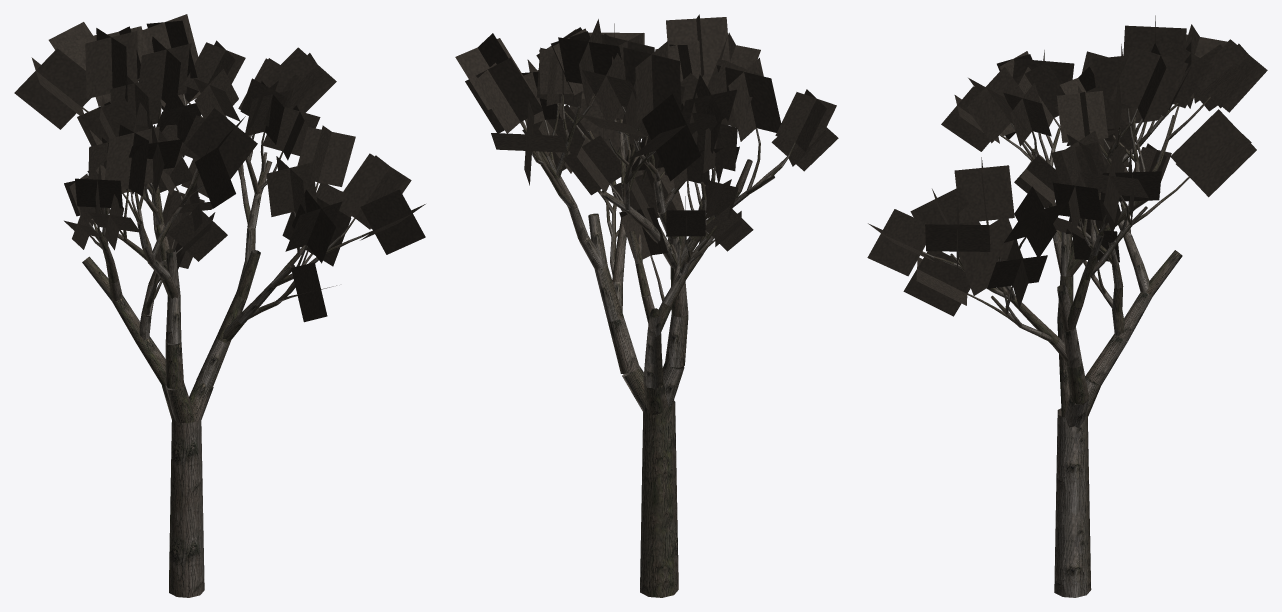
Rendered from S1U_Tree_C.fbx.
The picture shows the model from 3 angles, left to right: view 1: azimuth 30°, elevation 25°; view 2: azimuth 150°, elevation 25°; view 3: azimuth 270°, elevation 25°; orthographic projection. The views are drawn at different scales.
Parts seen in each view (by area): view 1: S1U_Tree_C; view 2: S1U_Tree_C; view 3: S1U_Tree_C.
Part boxes in pixels (left/top/right/bottom): S1U_Tree_C: left=14, top=14, right=425, bottom=597; S1U_Tree_C: left=455, top=14, right=838, bottom=597; S1U_Tree_C: left=867, top=15, right=1267, bottom=597.
Size of the model in its own units: 5.3 by 9.07 by 5.92.
